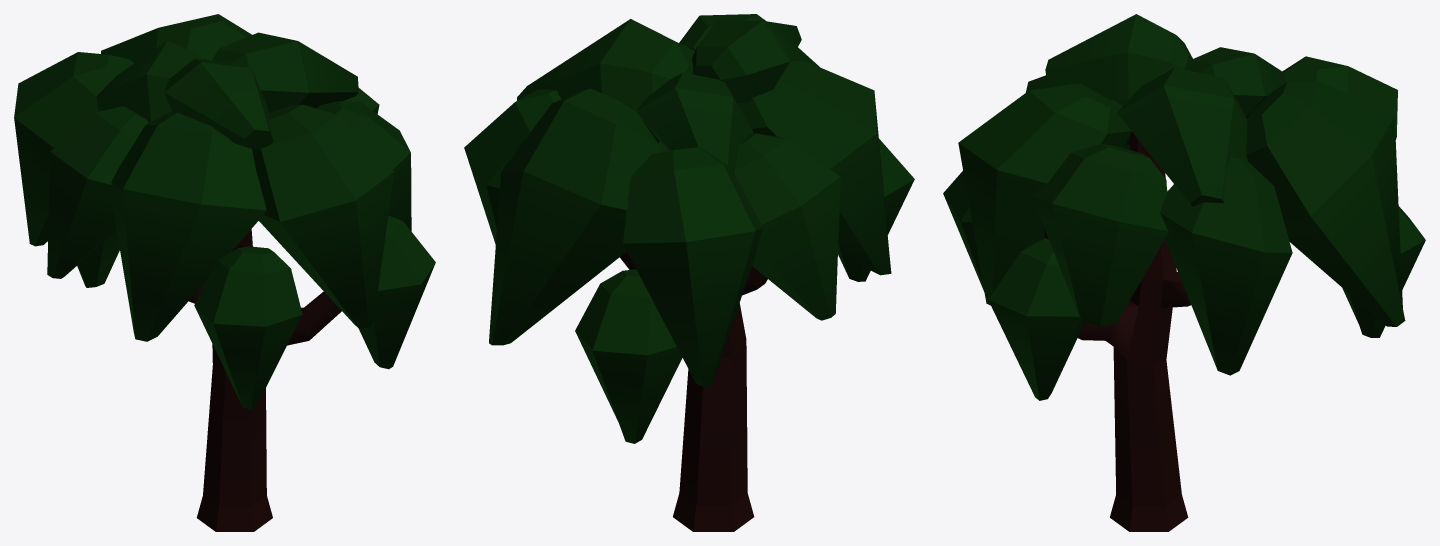
The model's file is Tree-08.fbx.
3 renders of one model, left to right at view 1: azimuth 30°, elevation 25°; view 2: azimuth 150°, elevation 25°; view 3: azimuth 270°, elevation 25°, orthographic. The views are drawn at different scales.
Visible parts, largest first — view 1: Tree_Type6_02_mesh; view 2: Tree_Type6_02_mesh; view 3: Tree_Type6_02_mesh.
Boxes of the visible parts, x1,y1,x2,y2 form: Tree_Type6_02_mesh: (14, 14, 435, 531); Tree_Type6_02_mesh: (464, 14, 914, 531); Tree_Type6_02_mesh: (943, 14, 1425, 531).
Size of the model in its own units: 3.78 by 5.21 by 4.72.
